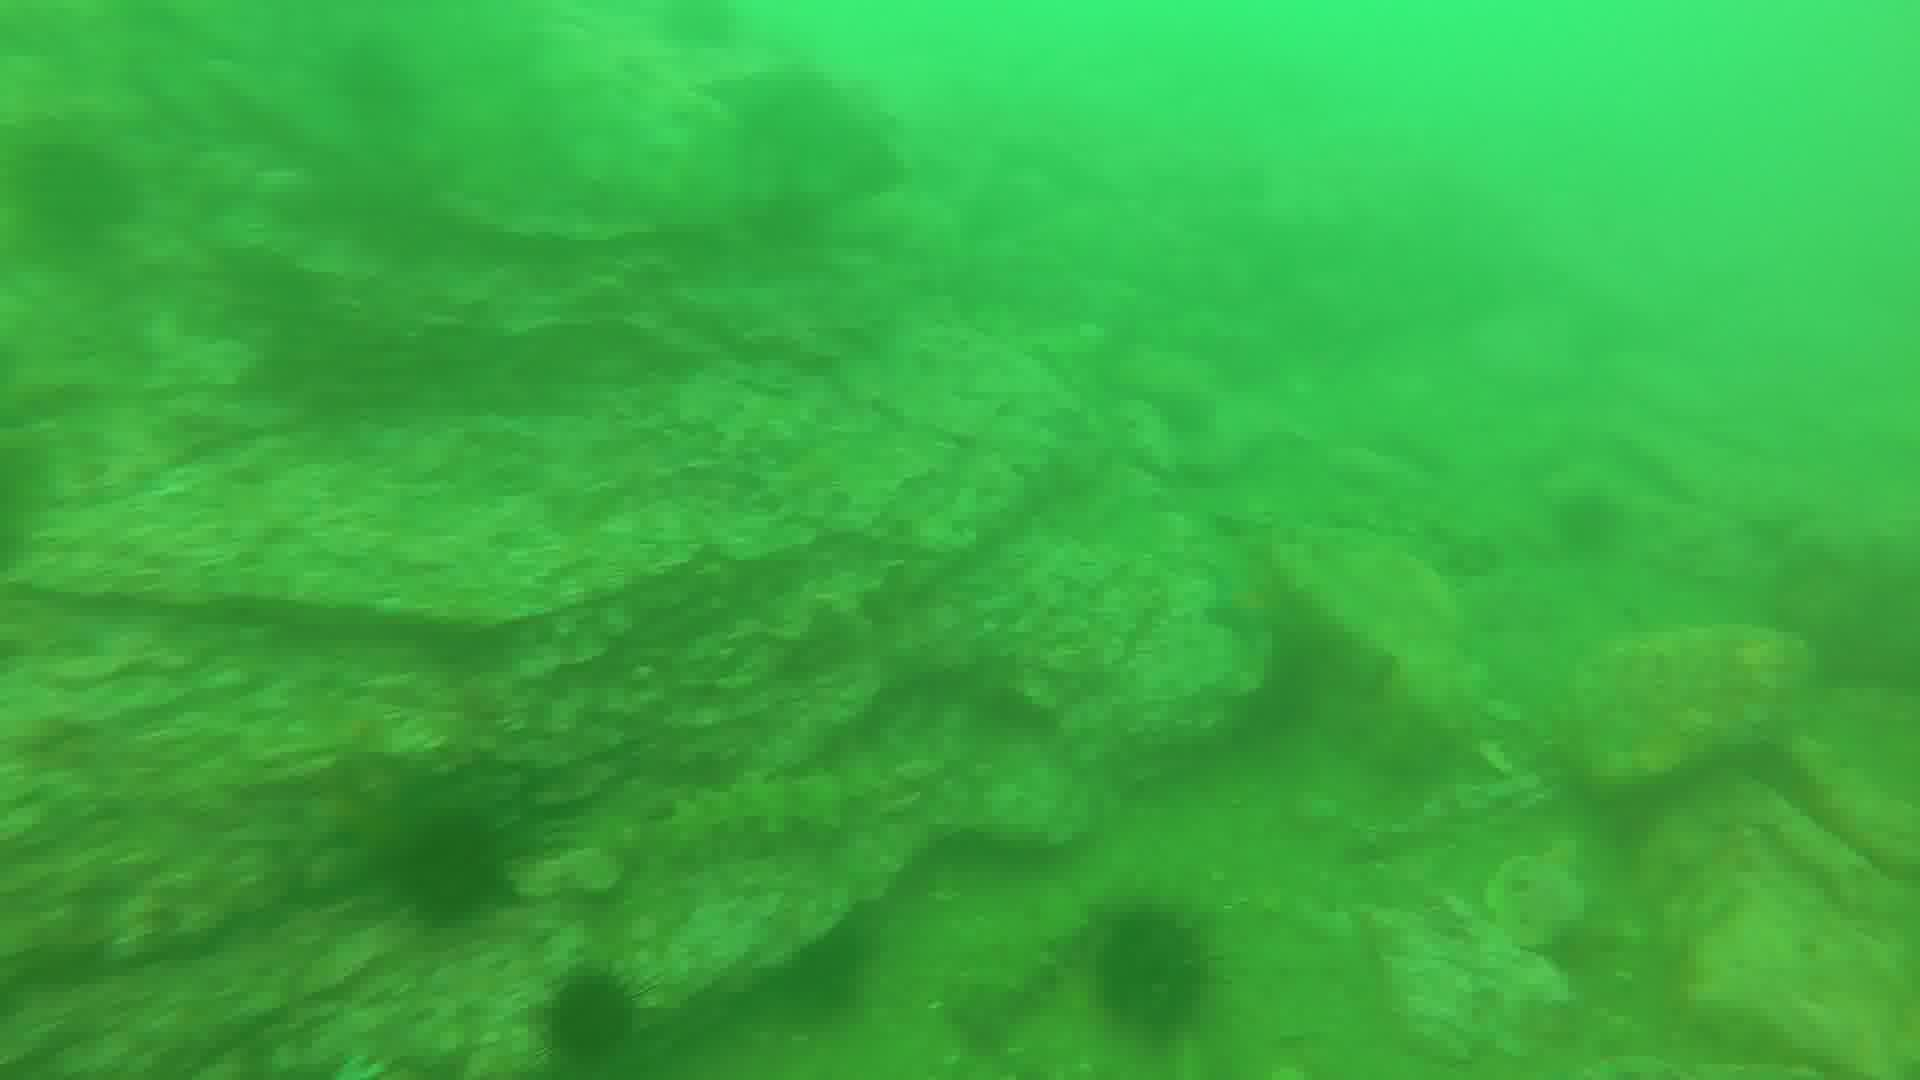echinus: (1096, 913, 1218, 1033), (406, 812, 512, 915), (550, 965, 645, 1062), (785, 916, 870, 1015)
